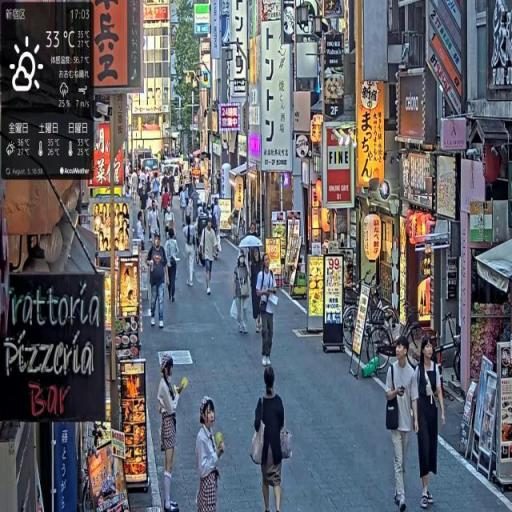person: (385, 336, 421, 512), (413, 335, 448, 510), (250, 364, 291, 512), (158, 352, 189, 512), (197, 396, 228, 512), (256, 254, 279, 371), (146, 232, 170, 330), (232, 251, 252, 336), (164, 221, 183, 305), (202, 220, 219, 299)
